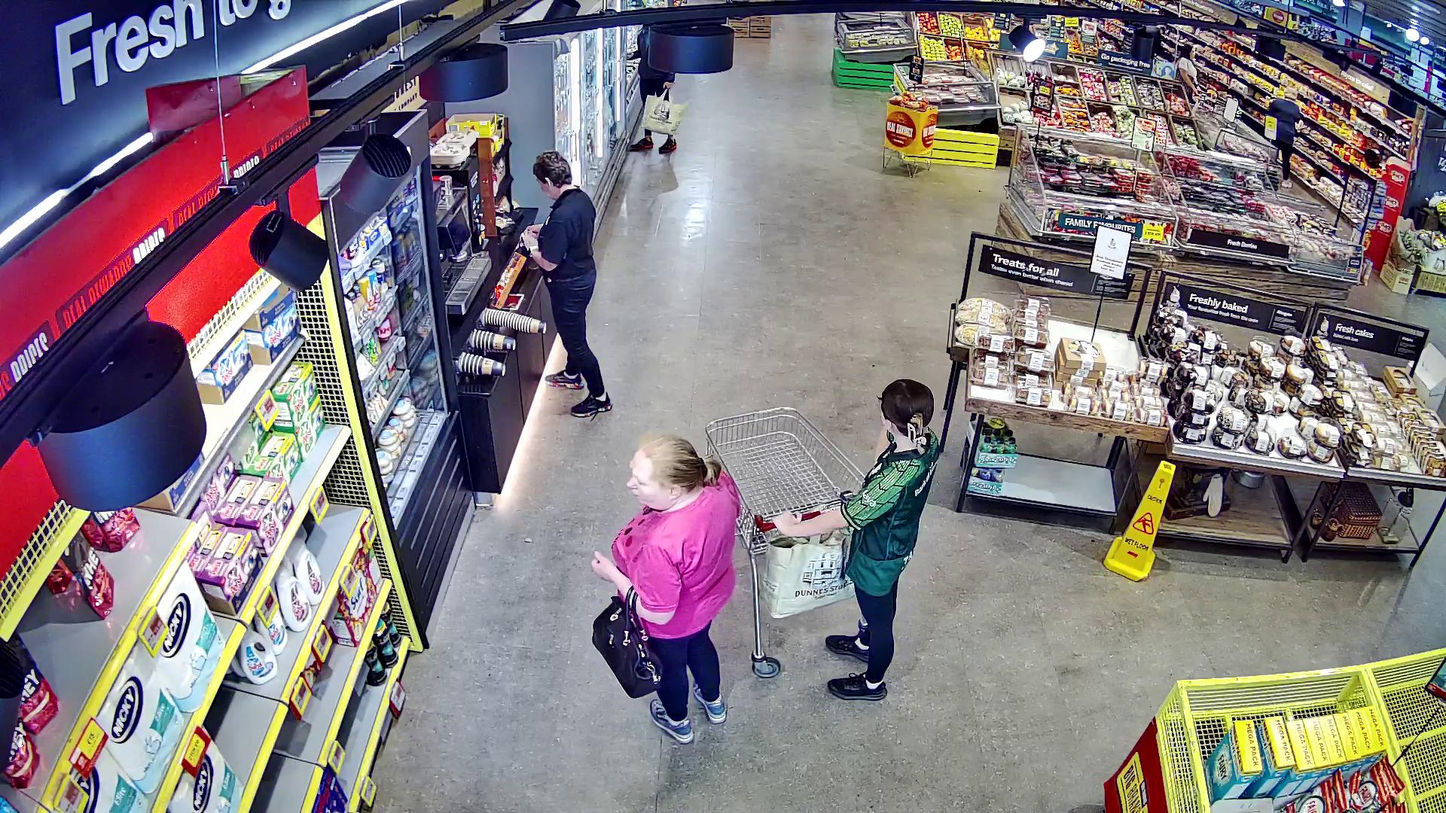backpack-or-handbag: (594, 593, 663, 697)
filled-shopping-bags: (762, 536, 858, 620)
person: (771, 379, 941, 701), (592, 438, 742, 744)
person-with-backpack-handbag: (592, 435, 743, 745)
person-with-basket-trolly-and-shopping-bag: (705, 377, 942, 703)
